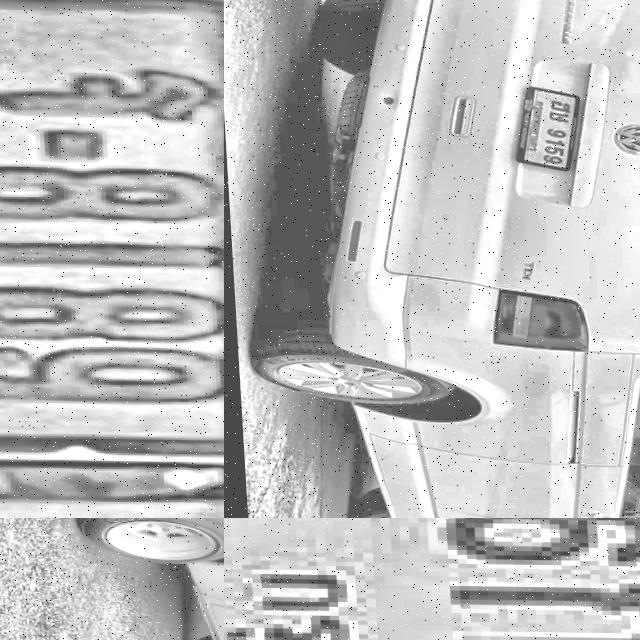license-plate: (0, 0, 224, 503), (224, 518, 640, 640), (505, 85, 585, 168)
